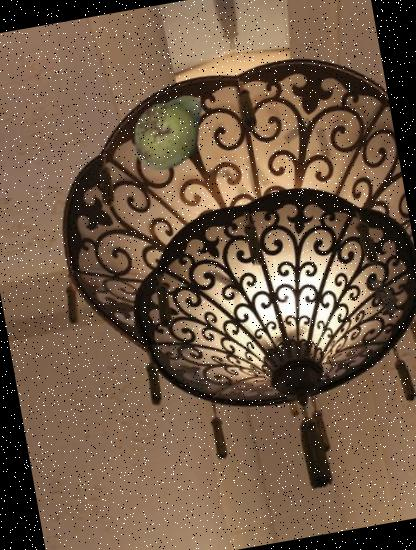Pear: (120, 82, 220, 182)
